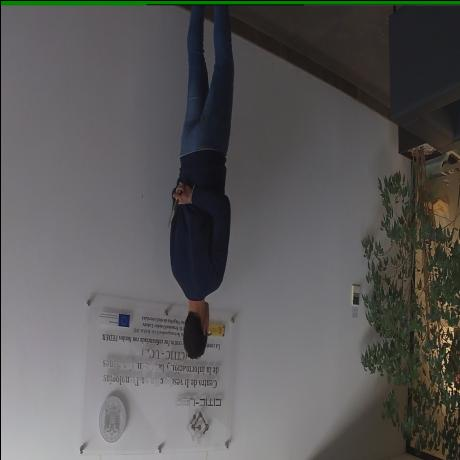1: (162, 1, 234, 368)
weapon: (167, 184, 182, 228)
